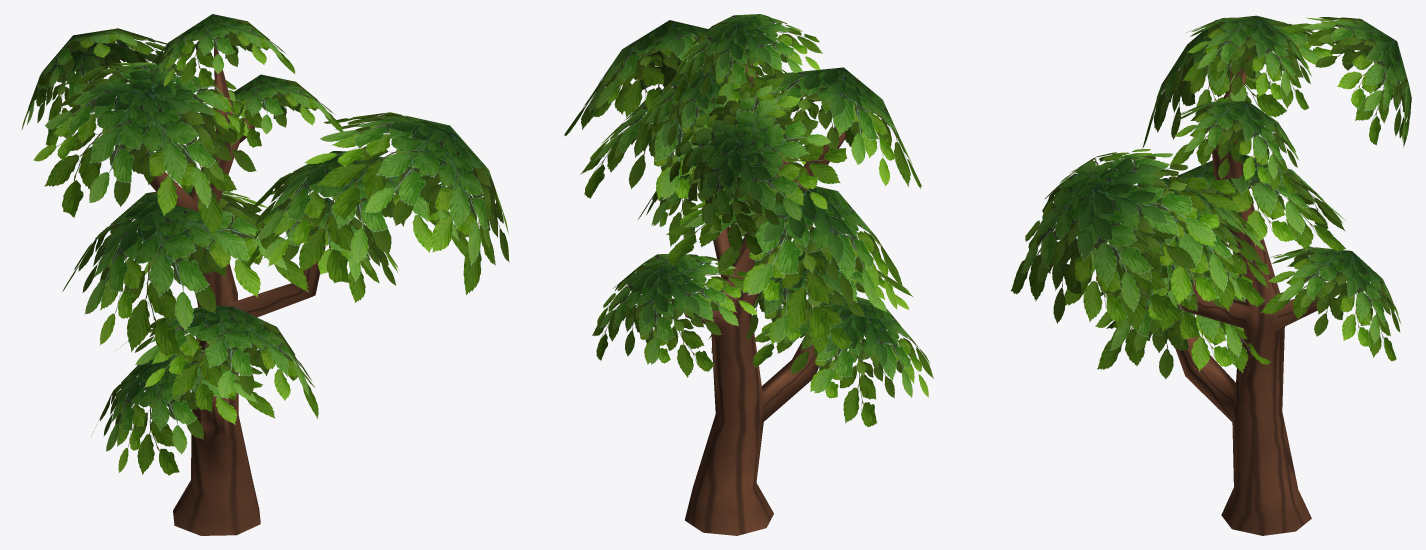
File: tree-lowpoly-swap.glb
The picture shows the model from 3 angles, left to right: view 1: azimuth 30°, elevation 25°; view 2: azimuth 150°, elevation 25°; view 3: azimuth 270°, elevation 25°; orthographic projection. The views are drawn at different scales.
Visible parts, largest first — view 1: leaves, trunk; view 2: leaves, trunk; view 3: leaves, trunk.
Boxes of the visible parts, x1,y1,x2,y2 form: leaves: (21,14,509,475); trunk: (146,41,325,535); leaves: (564,14,933,427); trunk: (684,51,846,535); leaves: (1010,15,1411,379); trunk: (1172,44,1318,535).
Bounding box in the file's own units: 26.86 × 29.18 × 22.89.
Materials: 2 (2 with a texture image).
